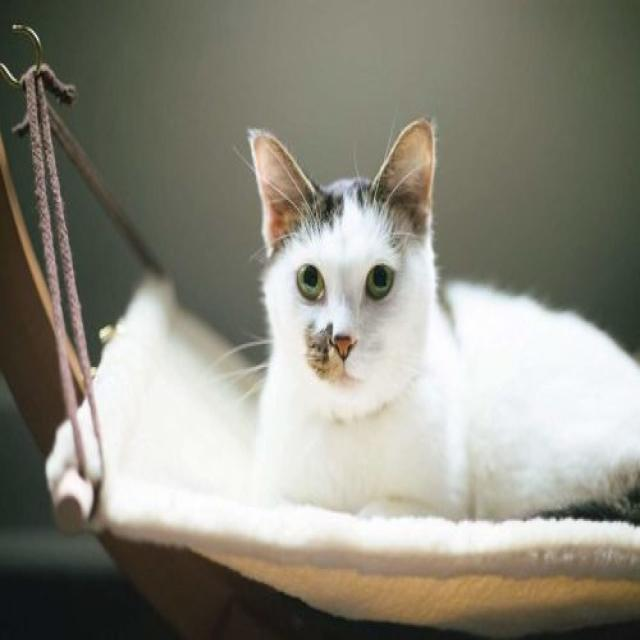cat: (260, 149, 456, 449)
